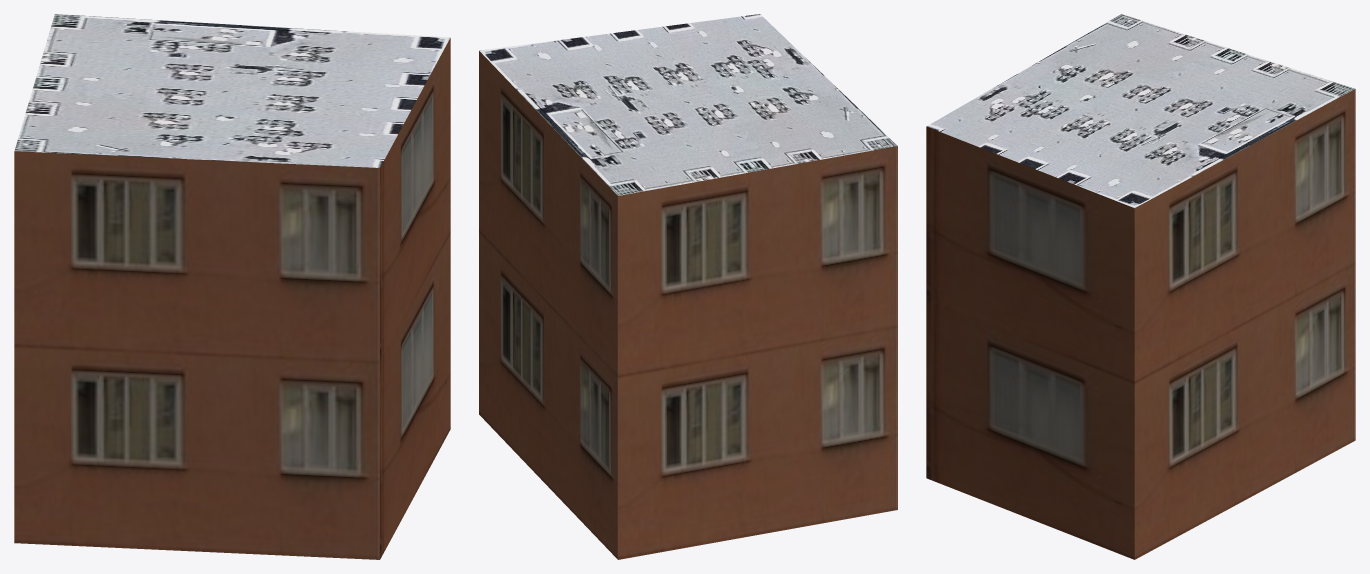
The model's file is ResTex__924.fbx.
The picture shows the model from 3 angles, left to right: view 1: azimuth 30°, elevation 25°; view 2: azimuth 150°, elevation 25°; view 3: azimuth 270°, elevation 25°; orthographic projection. The views are drawn at different scales.
Parts seen in each view (by area): view 1: CityEngineMaterial_20_m, CityEngineMaterial_m; view 2: CityEngineMaterial_20_m, CityEngineMaterial_m; view 3: CityEngineMaterial_20_m, CityEngineMaterial_m.
Part boxes in pixels (box(x1,y1,x2,y2)): CityEngineMaterial_20_m: box(14, 38, 450, 559); CityEngineMaterial_m: box(14, 14, 449, 167); CityEngineMaterial_20_m: box(479, 51, 897, 559); CityEngineMaterial_m: box(479, 14, 897, 195); CityEngineMaterial_20_m: box(926, 89, 1355, 559); CityEngineMaterial_m: box(926, 14, 1355, 208).
Bounding box in the file's own units: 7.11 × 6 × 6.64.
2 materials, 2 textured.
